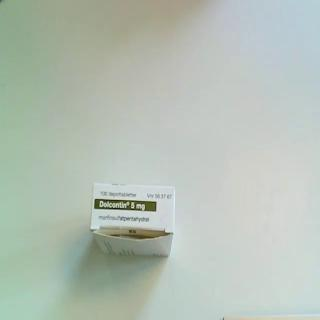dolcontin5mg: (90, 181, 177, 261)
